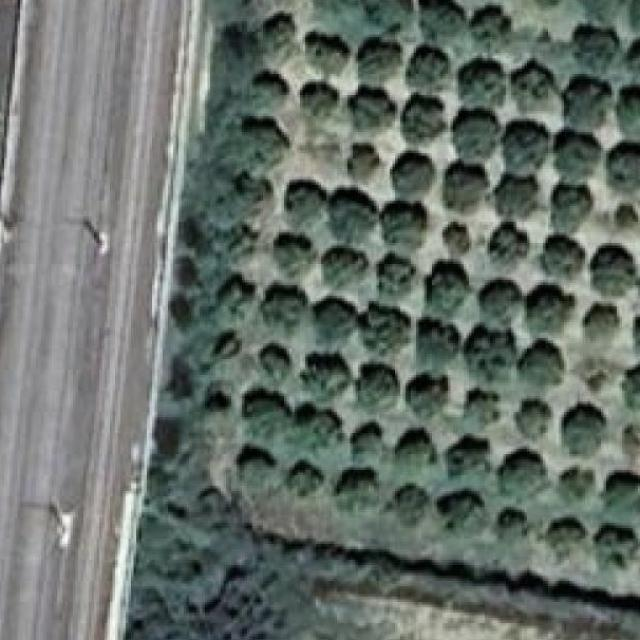Tree: (436, 491, 492, 547), (520, 58, 570, 118), (438, 438, 493, 492), (305, 348, 356, 404), (464, 325, 516, 379), (525, 280, 579, 331), (541, 518, 590, 574), (402, 372, 450, 426), (351, 82, 394, 142), (506, 450, 552, 506), (490, 174, 540, 224), (461, 58, 507, 111), (358, 364, 407, 413), (300, 26, 350, 74), (302, 76, 350, 126), (355, 35, 403, 85), (362, 304, 407, 357), (592, 254, 640, 303), (310, 291, 356, 342), (553, 137, 601, 185), (247, 394, 294, 443), (329, 191, 378, 238), (319, 238, 369, 284), (148, 410, 192, 462), (361, 0, 419, 39), (390, 151, 437, 199), (237, 446, 283, 495), (388, 201, 434, 250), (593, 520, 639, 569), (240, 114, 285, 164), (453, 106, 497, 156), (420, 314, 460, 368), (258, 2, 302, 51), (406, 88, 448, 139), (443, 158, 491, 202), (522, 343, 563, 394), (506, 121, 552, 166), (601, 475, 640, 528), (337, 465, 379, 514), (490, 502, 531, 552), (461, 389, 506, 434), (234, 174, 276, 222), (483, 227, 525, 274), (559, 403, 600, 451), (479, 278, 525, 320), (556, 183, 598, 228), (261, 283, 302, 328), (288, 177, 328, 223), (388, 484, 428, 529), (416, 0, 462, 39), (395, 428, 434, 474), (608, 142, 640, 198), (248, 66, 290, 108), (467, 4, 511, 44), (578, 21, 620, 62), (379, 257, 418, 301), (606, 85, 640, 134), (162, 351, 196, 399), (430, 262, 467, 306), (569, 85, 613, 122), (298, 410, 337, 451), (218, 274, 256, 316), (183, 206, 216, 254), (355, 422, 390, 467), (511, 404, 546, 448), (274, 232, 312, 272), (162, 290, 200, 330), (226, 220, 261, 263), (583, 306, 620, 346), (308, 129, 349, 165), (294, 462, 332, 500), (200, 386, 234, 428), (261, 343, 297, 382), (416, 46, 451, 86), (348, 146, 386, 182), (212, 326, 247, 364), (542, 235, 576, 272), (177, 256, 207, 290), (559, 470, 587, 504), (446, 220, 472, 256), (611, 199, 639, 231), (569, 0, 619, 16), (622, 32, 640, 76), (627, 306, 640, 357), (316, 0, 359, 14), (627, 368, 640, 410), (627, 0, 640, 34), (534, 0, 566, 13), (632, 262, 640, 300)
